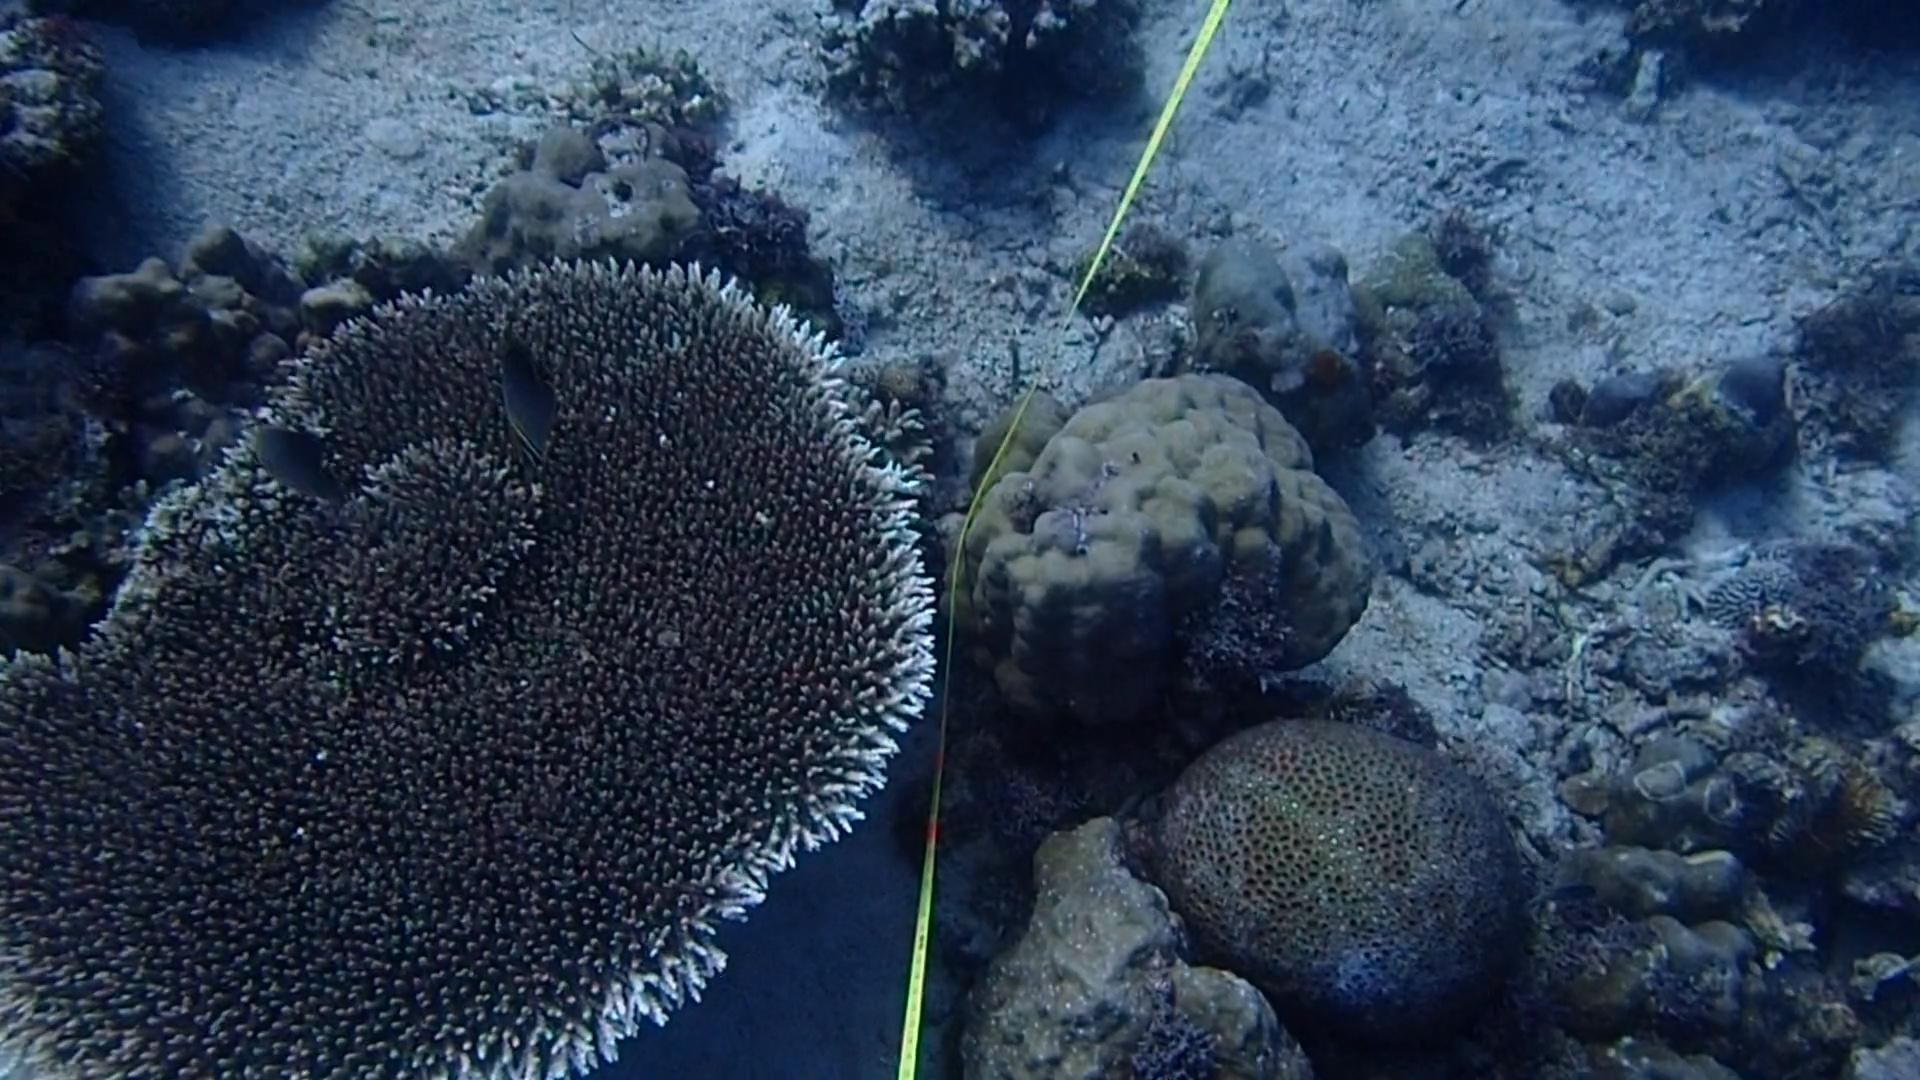Dark Blue Dory: (476, 327, 580, 465), (236, 409, 344, 525)
Light Fish: (1522, 876, 1609, 922)
